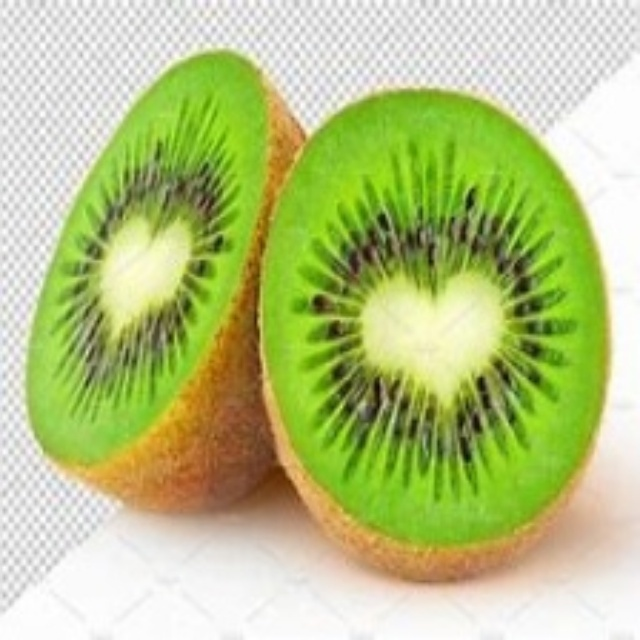kiwi: (266, 84, 610, 569), (29, 48, 310, 523)
